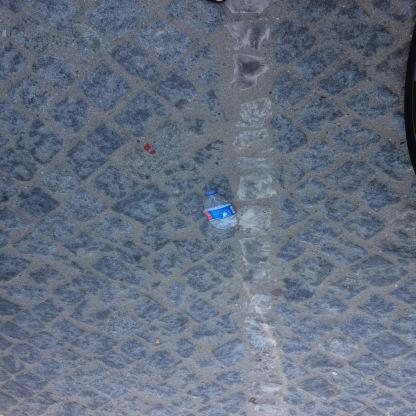Bottle cap: (203, 190, 239, 229)
Cigarette: (2, 29, 6, 37), (331, 371, 338, 375), (155, 339, 160, 344)
Other plastic: (203, 203, 236, 220)
